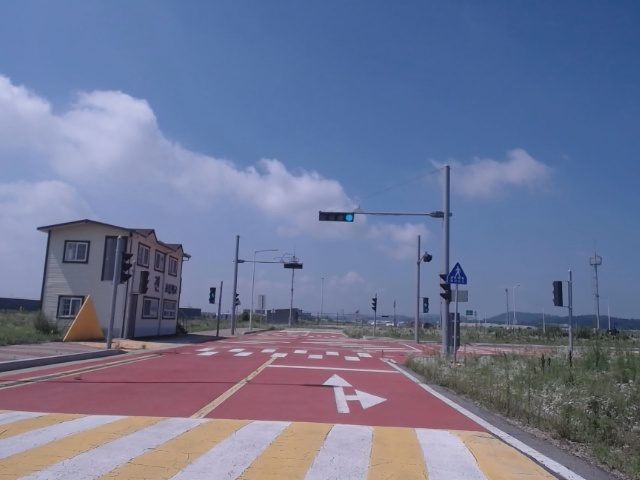straight_green_4: (319, 212, 354, 222)
